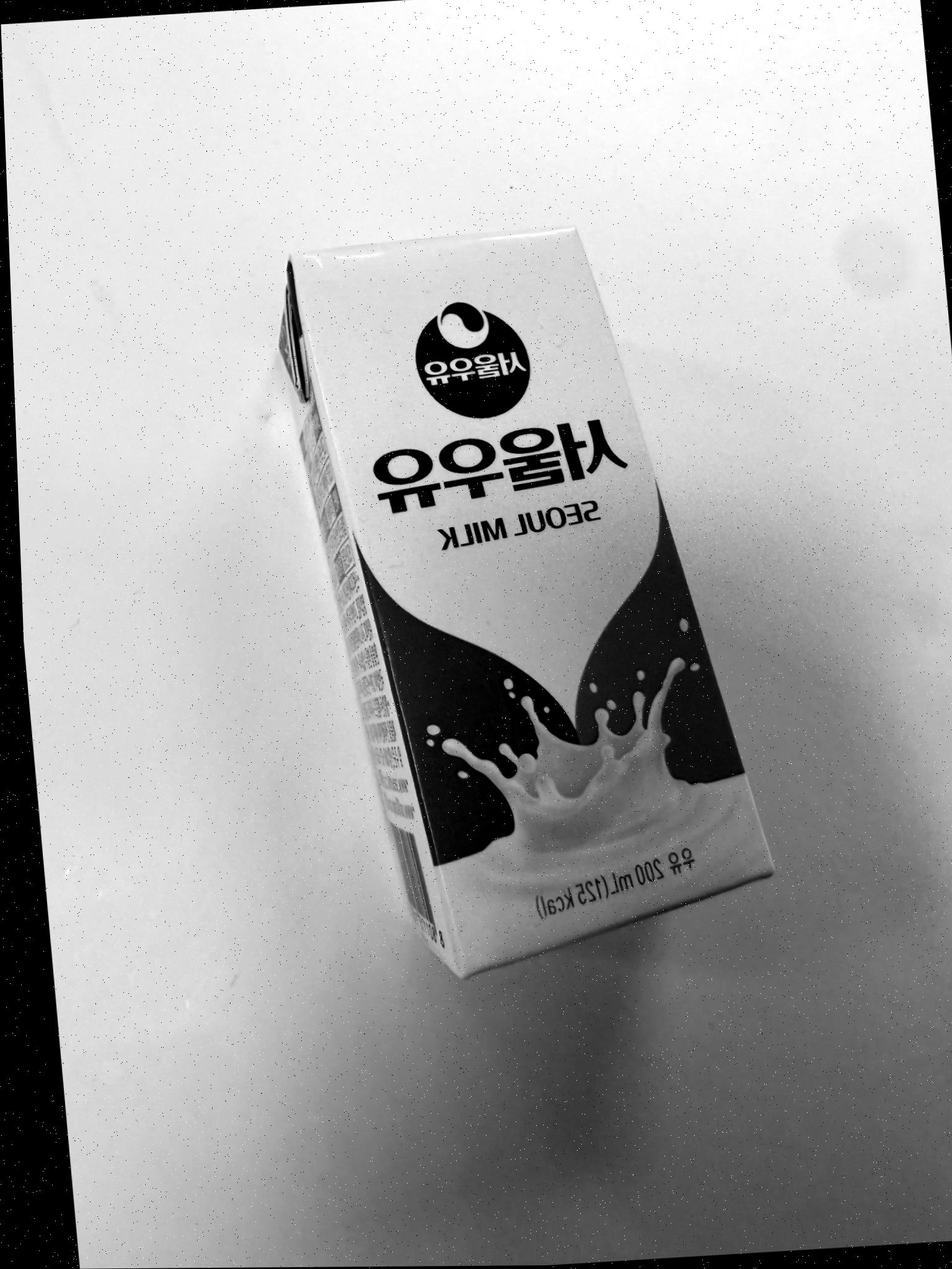milk_green: (276, 224, 774, 977)
